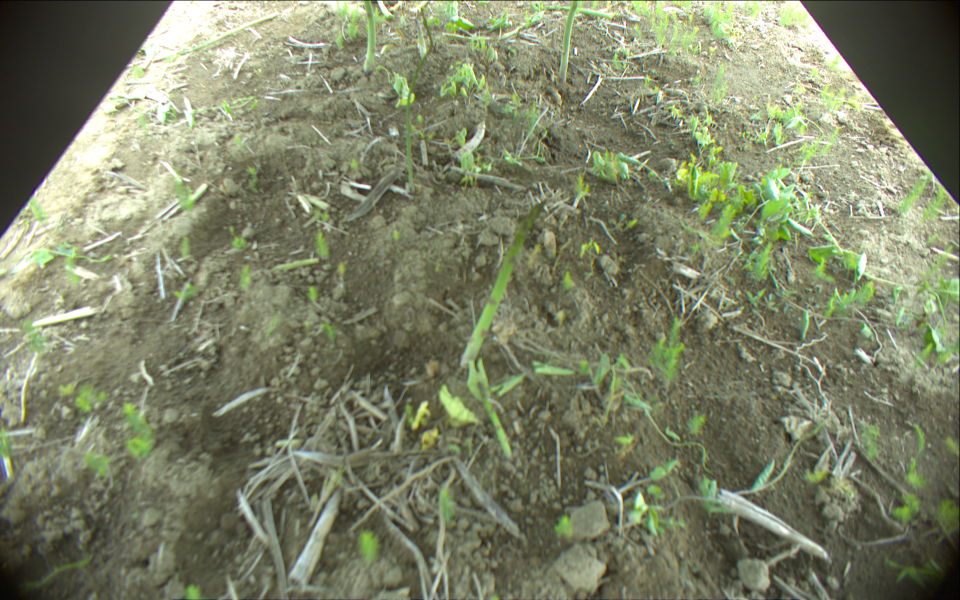aspa: (461, 201, 544, 368), (126, 11, 279, 66), (405, 6, 436, 188), (560, 1, 577, 81), (363, 1, 375, 74), (547, 4, 613, 17), (415, 19, 426, 55)
